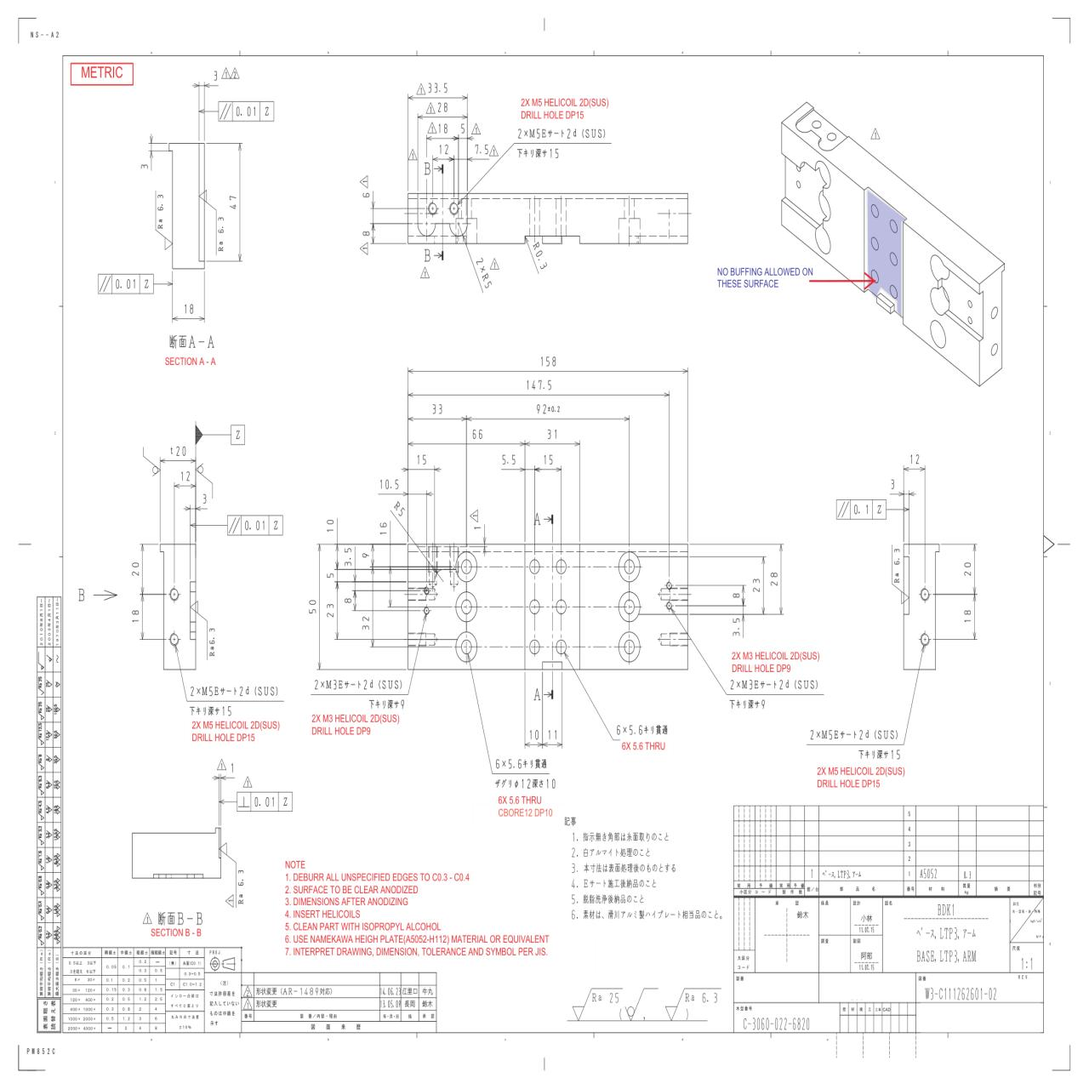basic_dimension: (526, 379, 552, 391), (254, 796, 276, 807), (245, 520, 265, 532), (235, 106, 256, 117), (115, 279, 136, 289), (853, 503, 870, 515), (428, 83, 448, 93), (380, 479, 398, 489), (540, 355, 556, 366), (503, 454, 516, 466), (344, 548, 352, 567), (308, 599, 317, 614), (733, 618, 740, 637), (476, 144, 488, 155), (229, 194, 237, 210), (543, 454, 554, 465), (964, 563, 972, 577), (472, 429, 483, 439), (547, 429, 557, 440), (910, 454, 920, 465), (530, 729, 539, 741), (184, 304, 194, 314), (432, 404, 442, 414), (439, 123, 448, 134), (753, 579, 760, 593), (771, 572, 778, 586), (549, 729, 557, 741), (132, 610, 139, 623), (132, 563, 139, 576), (327, 604, 334, 617), (362, 617, 369, 630), (964, 610, 971, 623), (439, 144, 448, 154), (438, 102, 447, 112), (182, 471, 190, 482), (418, 454, 426, 465), (327, 519, 334, 531), (380, 523, 387, 535), (890, 479, 895, 489), (461, 123, 465, 135), (362, 192, 371, 197), (203, 493, 207, 504), (362, 231, 370, 236), (344, 598, 352, 603), (474, 525, 482, 530), (141, 164, 148, 169), (362, 553, 369, 558), (733, 593, 740, 598), (214, 71, 217, 81), (327, 573, 334, 577), (231, 763, 234, 772)
datum_symbol: (195, 424, 245, 446)
dimension_diameter_symbol: (515, 779, 531, 789)
dimension_diameter_text: (520, 778, 531, 790)
dimension_metric_symbol: (821, 729, 833, 742), (202, 720, 214, 731), (741, 679, 753, 690), (325, 680, 337, 690), (529, 129, 541, 138)
dimension_metric_text: (209, 719, 214, 730), (536, 128, 541, 139), (829, 730, 833, 741), (333, 680, 337, 690), (749, 680, 753, 690)
dimension_radius_symbol: (532, 240, 548, 271), (393, 500, 406, 517), (481, 273, 492, 289)
dimension_radius_text: (535, 248, 549, 271), (484, 280, 493, 290), (398, 507, 406, 518)
dimension_thickness_symbol: (170, 445, 186, 456)
dimension_thickness_text: (176, 446, 186, 456)
explicit_tolerance_text: (537, 403, 561, 415)
gdt_frame_symbol: (226, 513, 284, 537), (97, 272, 155, 295), (236, 791, 294, 813), (218, 101, 275, 122), (836, 499, 887, 520)
gdt_parallelism_symbol: (228, 517, 240, 534), (219, 103, 231, 120), (837, 501, 849, 518), (99, 276, 111, 292)
gdt_perpendicularity_symbol: (238, 796, 250, 807)
revision_triangle_symbol: (359, 241, 368, 256), (359, 174, 368, 189), (221, 66, 231, 79), (243, 775, 253, 788), (427, 121, 437, 134), (426, 101, 436, 114), (416, 82, 426, 95), (471, 122, 481, 135), (870, 127, 880, 140), (225, 894, 234, 908), (469, 509, 478, 523), (489, 258, 500, 269), (217, 758, 227, 770), (408, 148, 418, 160), (489, 144, 499, 156), (420, 267, 430, 278), (231, 67, 240, 79)
surface_finish_symbol: (198, 189, 224, 256), (218, 842, 244, 908), (190, 600, 215, 660), (891, 544, 910, 605), (155, 191, 173, 251), (195, 463, 213, 499), (143, 447, 161, 477)
surface_finish_text: (237, 868, 244, 886), (893, 548, 900, 566), (157, 195, 164, 212), (209, 627, 215, 645), (218, 217, 224, 234)
